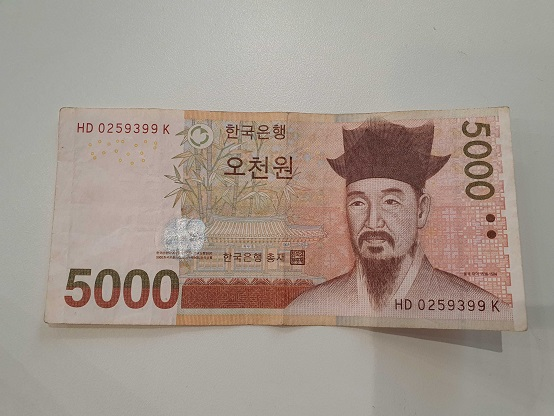5000won: (44, 108, 530, 332)
